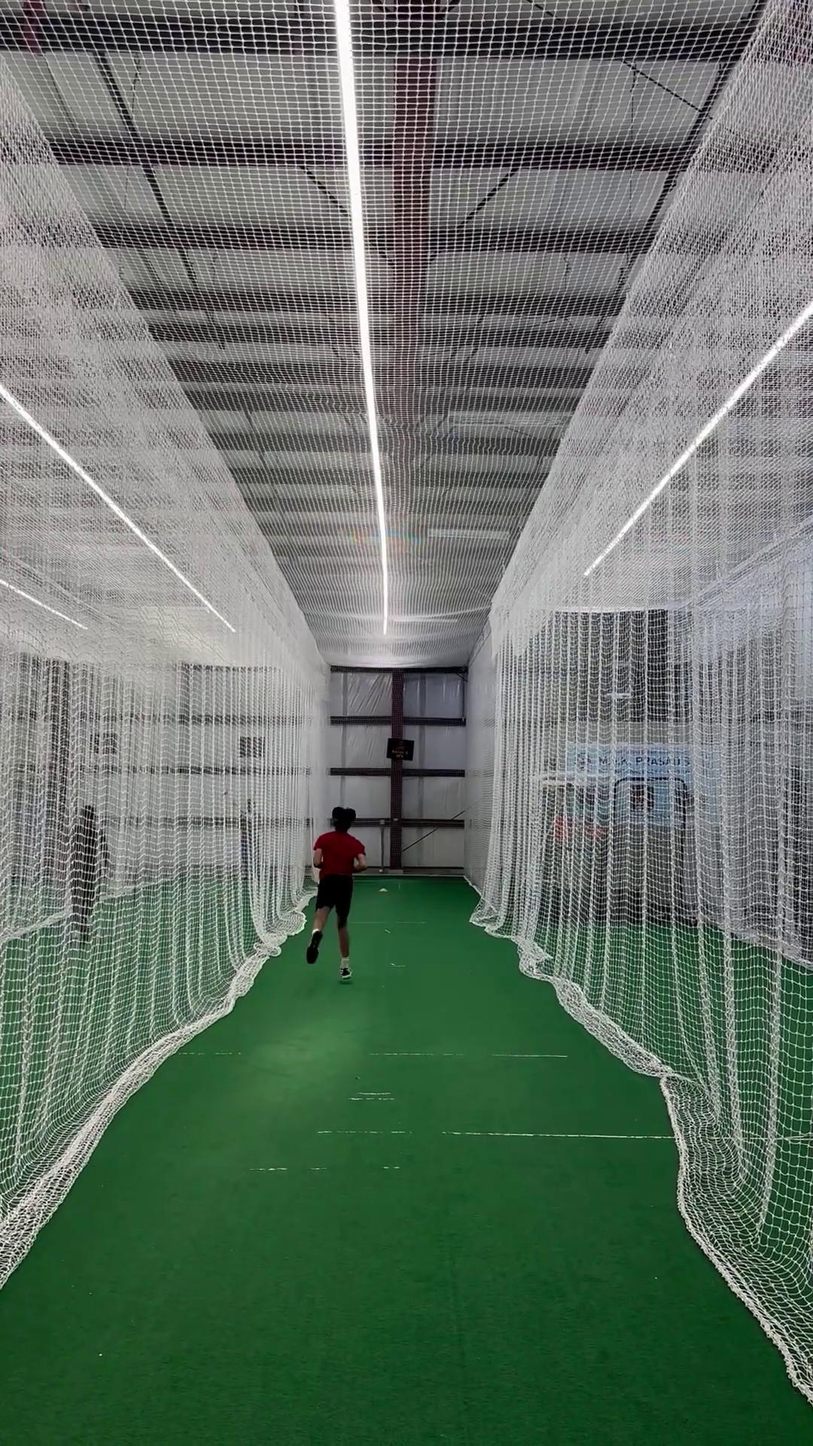ball: (377, 866, 385, 876)
